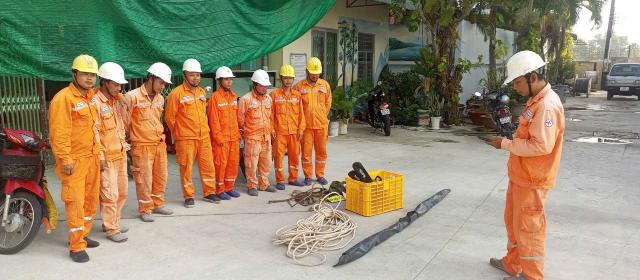helmet: (499, 44, 551, 90), (142, 61, 176, 87), (97, 59, 129, 86), (70, 52, 98, 77), (246, 70, 274, 88), (306, 55, 326, 75), (182, 57, 203, 76), (214, 64, 235, 82), (280, 60, 295, 81)
shoes: (490, 264, 546, 280), (486, 253, 517, 274), (65, 249, 94, 265), (151, 199, 172, 218), (199, 191, 222, 208), (76, 234, 99, 250), (134, 209, 155, 226), (99, 230, 126, 243), (258, 180, 277, 195), (224, 184, 240, 200), (243, 183, 259, 199), (110, 221, 128, 235), (270, 178, 289, 191), (177, 195, 195, 208), (215, 186, 230, 201), (299, 171, 312, 187), (288, 176, 305, 187), (315, 178, 330, 185)
